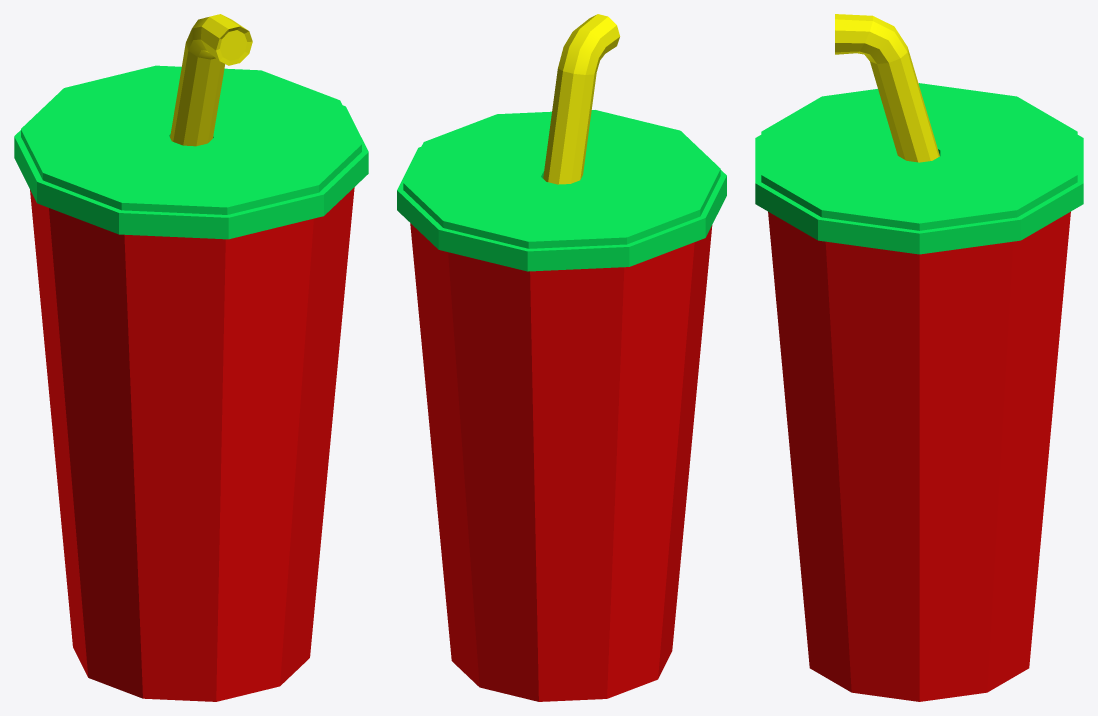
Rendered from Drink.fbx.
3 views of the same model, side by side, from view 1: azimuth 30°, elevation 25°; view 2: azimuth 150°, elevation 25°; view 3: azimuth 270°, elevation 25° (orthographic). The views are drawn at different scales.
Parts seen in each view (by area): view 1: pCylinder1, pCylinder2, pCylinder3; view 2: pCylinder1, pCylinder2, pCylinder3; view 3: pCylinder1, pCylinder2, pCylinder3.
Part boxes in pixels (x1=…): pCylinder1: x1=30, y1=187, x2=354, y2=701; pCylinder2: x1=14, y1=65, x2=368, y2=239; pCylinder3: x1=170, y1=14, x2=252, y2=146; pCylinder1: x1=410, y1=223, x2=712, y2=701; pCylinder2: x1=397, y1=110, x2=726, y2=271; pCylinder3: x1=543, y1=14, x2=620, y2=184; pCylinder1: x1=768, y1=211, x2=1070, y2=701; pCylinder2: x1=755, y1=83, x2=1083, y2=254; pCylinder3: x1=835, y1=14, x2=939, y2=162.
Size of the model in its own units: 29.92 by 60.84 by 28.46.
